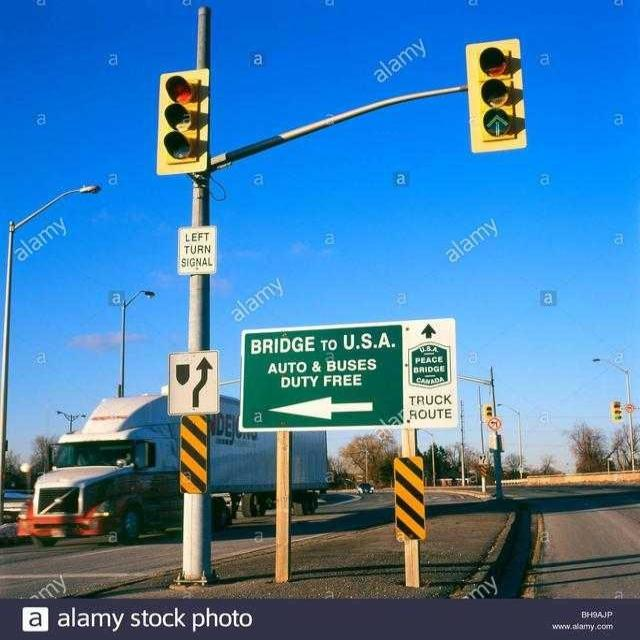Traffic Light -Red-: (467, 34, 531, 152), (156, 64, 215, 176)
